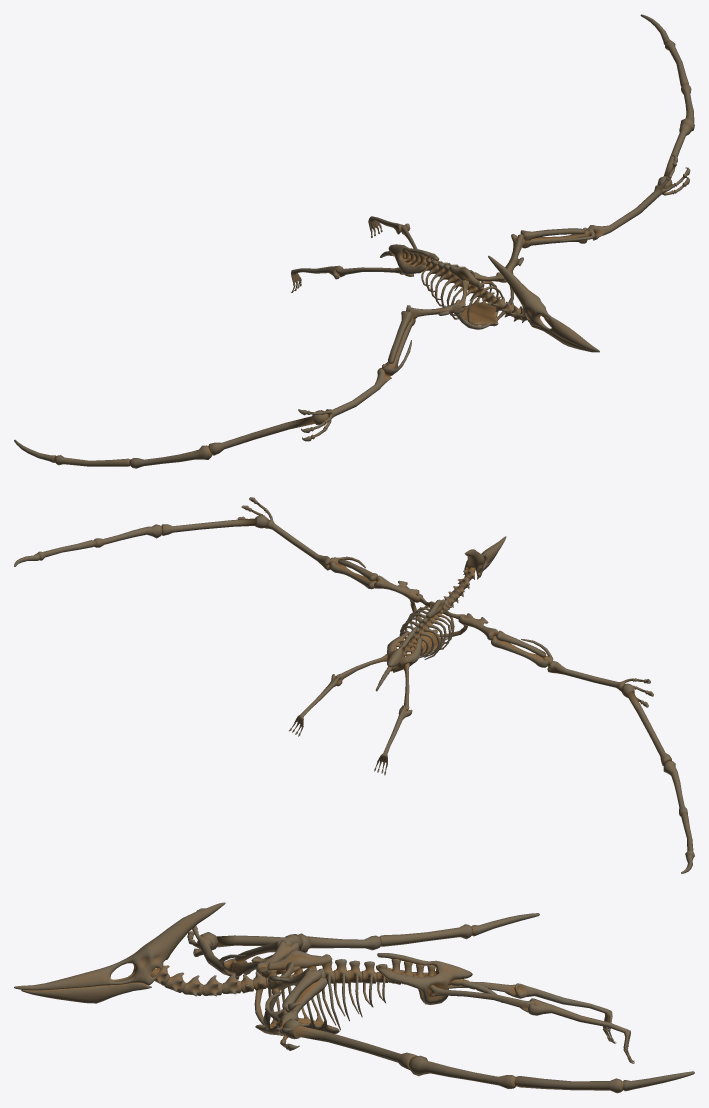
File: guang.glb
3 renders of one model, top to bottom at view 1: azimuth 30°, elevation 25°; view 2: azimuth 150°, elevation 25°; view 3: azimuth 270°, elevation 25°, orthographic. The views are drawn at different scales.
Parts seen in each view (by area): view 1: Pteranodon; view 2: Pteranodon; view 3: Pteranodon.
Part boxes in pixels (bbox=[...]): Pteranodon: bbox=[14, 14, 694, 468]; Pteranodon: bbox=[14, 497, 694, 873]; Pteranodon: bbox=[14, 902, 694, 1093].
Size of the model in its own units: 4.92 by 1.54 by 3.11.
Materials: 2 (2 with a texture image).
